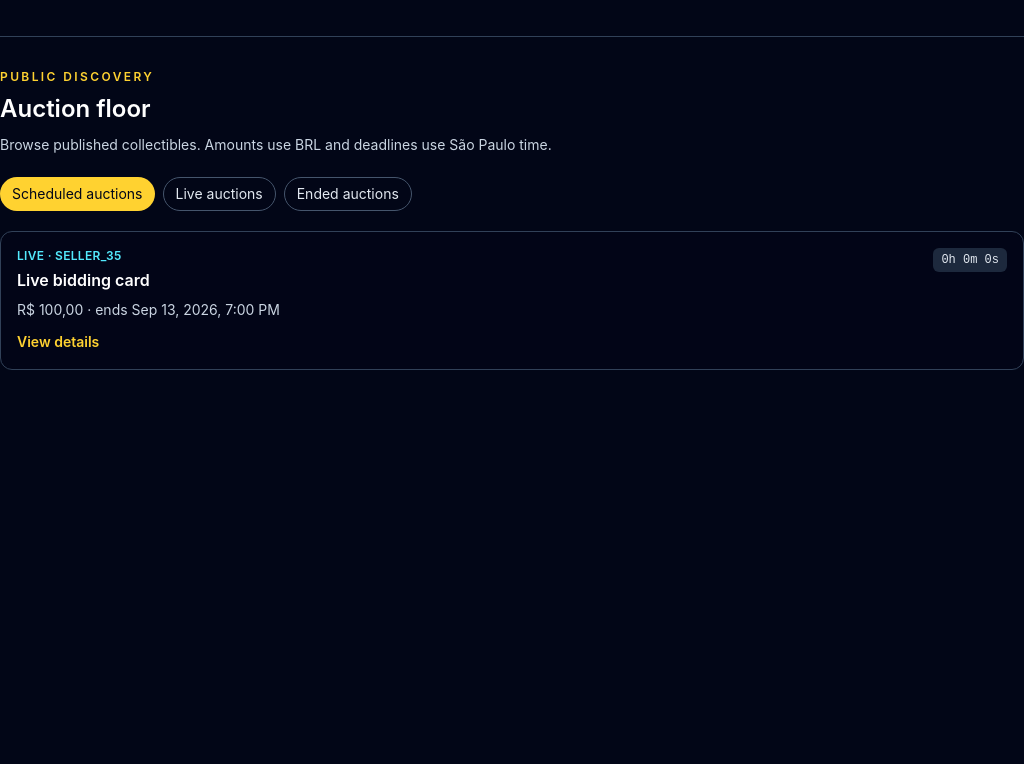
Test case: PublicAuctionBrowser bidding › marks permanently disqualified bids while using the server-projected next minimum
Click the tab "Live auctions".
click(219, 194)  # box [162,177,276,211]
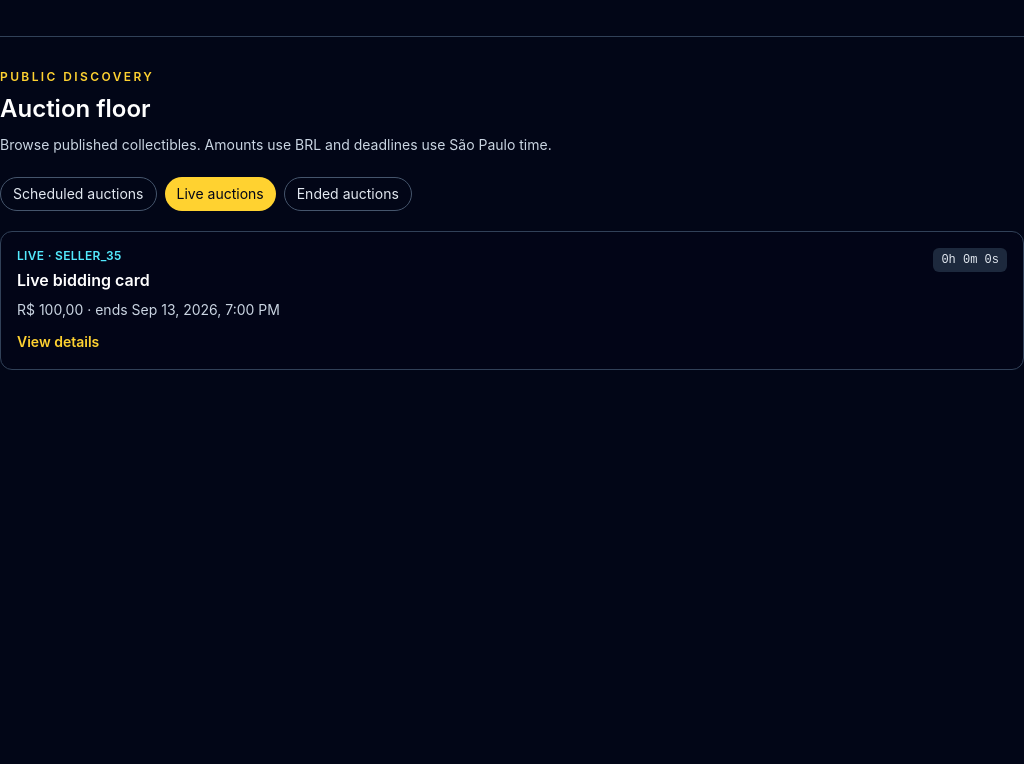
Click the button with aria-label "View Live bidding card".
click(58, 342)  # box [17,332,99,352]
(page scrolled)
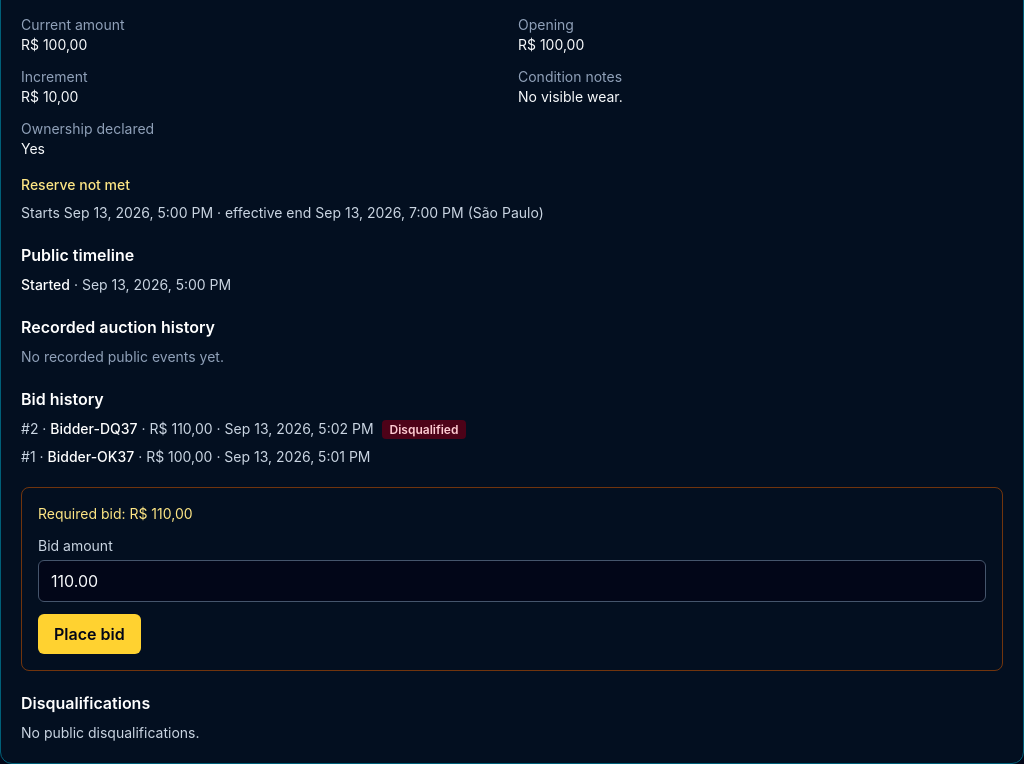
Expected: the text "Disqualified" is shown, [382,420,466,439]
Expected: the text "Required bid: R$ 110,00" is shown, [38,505,193,522]
